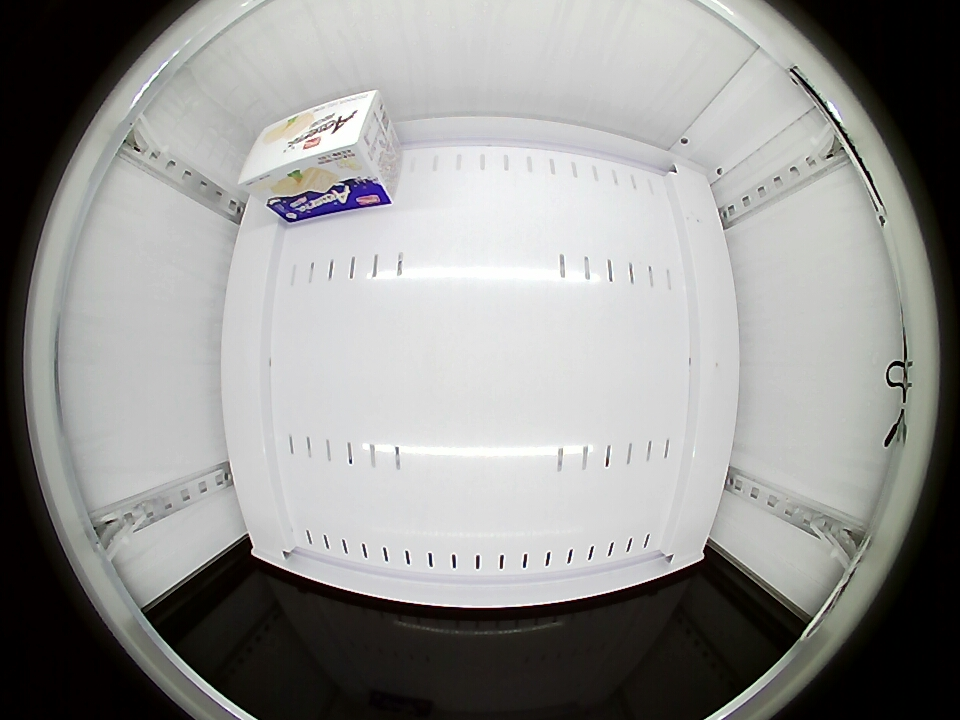meiniye: (238, 88, 388, 201)
